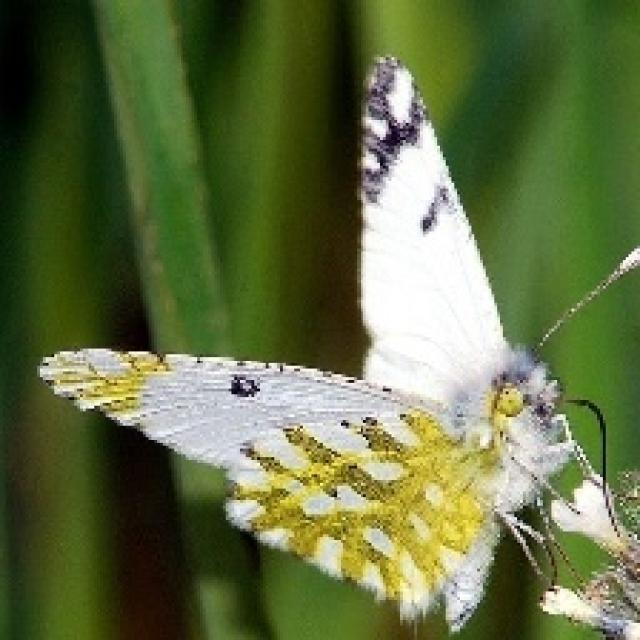butterfly: (34, 52, 637, 637)
